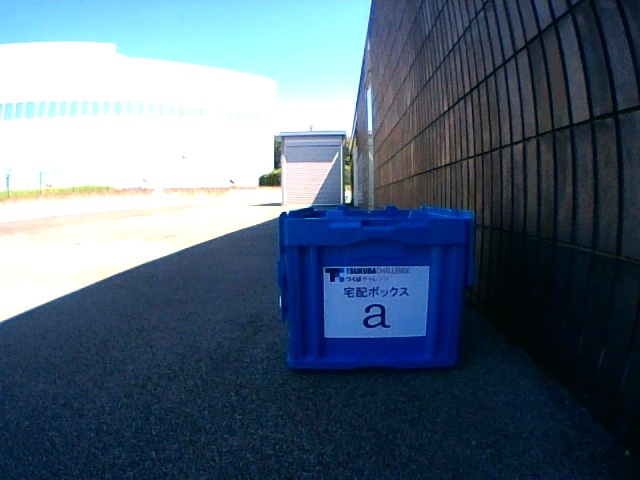blue_box: (279, 206, 475, 370)
tag_a: (324, 267, 424, 336)
